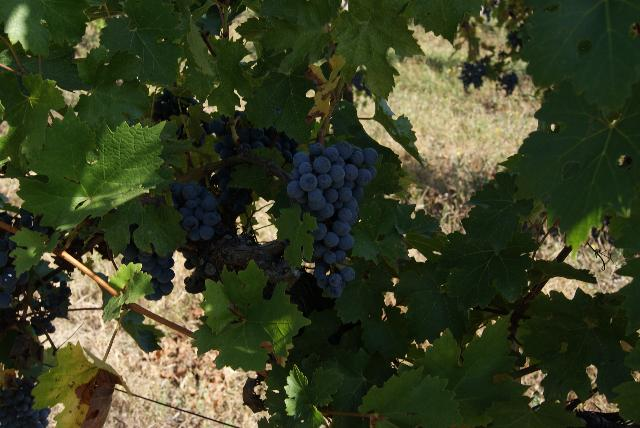grapes: (286, 141, 379, 299), (122, 241, 175, 300), (169, 181, 220, 241)
